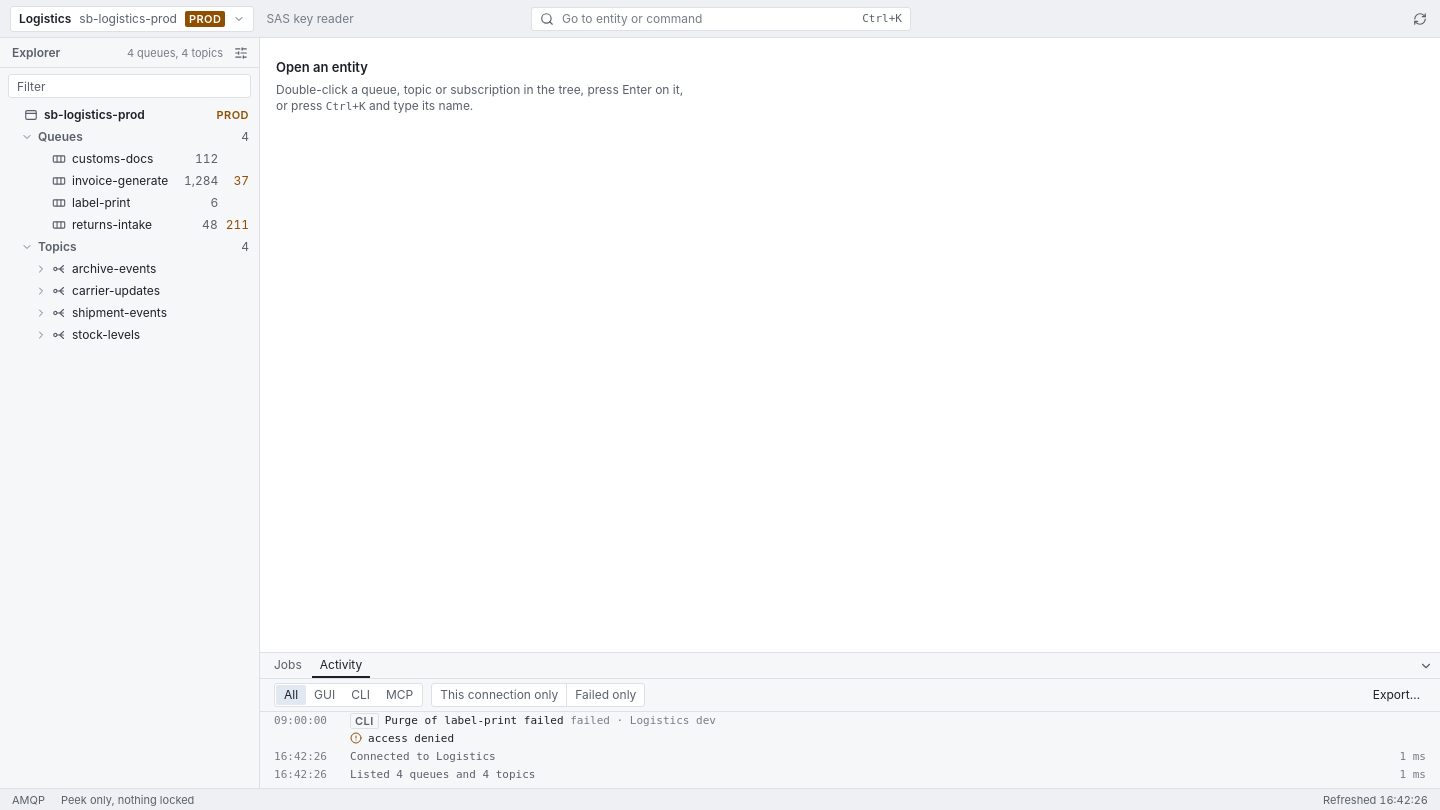
ActivityLog › loads the shared log when the shell starts, and Export… writes it
(page scrolled)
expect the text "Connected to Logistics" is shown: met, box [350,750,496,763]
Click the button "Export…" at (1396, 695), box [1367,684,1426,706]
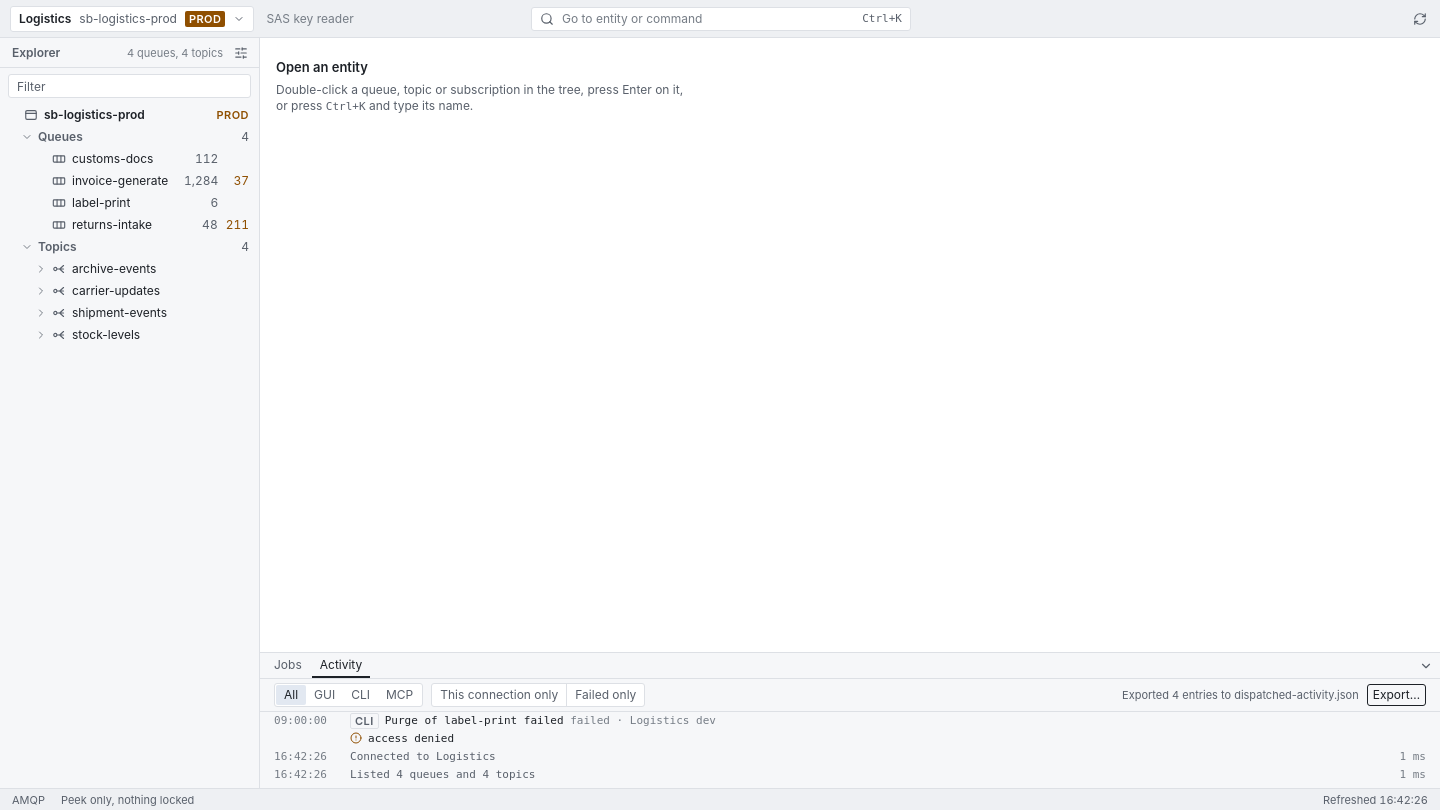
expect the text "Exported 4 entries to dispatched-activity.json" is shown: met, box [1122,688,1359,702]
